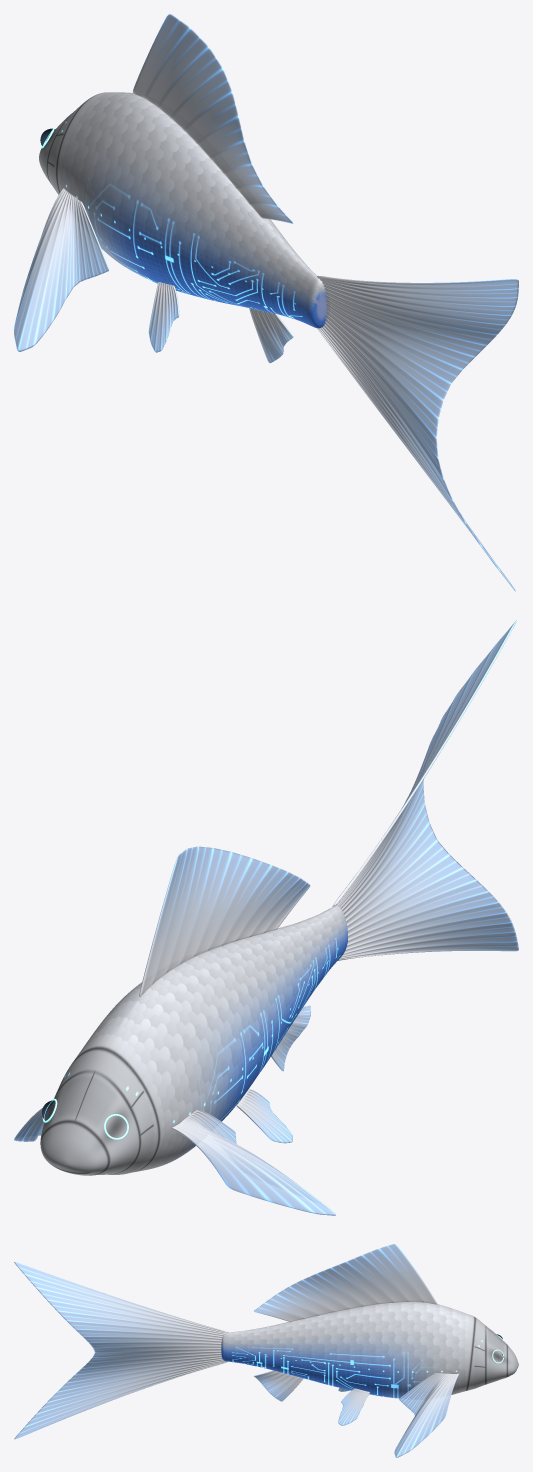
Rendered from cyberfish_straight.glb.
The picture shows the model from 3 angles, top to bottom: view 1: azimuth 30°, elevation 25°; view 2: azimuth 150°, elevation 25°; view 3: azimuth 270°, elevation 25°; orthographic projection. The views are drawn at different scales.
Parts seen in each view (by area): view 1: CF_Body, CF_FinTail, CF_FinDorsal, CF_FinPectoral.R, CF_FinPelvic.R, CF_FinAnal; view 2: CF_Body, CF_FinTail, CF_FinDorsal, CF_FinPectoral.R, CF_FinPelvic.R, CF_FinAnal; view 3: CF_Body, CF_FinTail, CF_FinDorsal, CF_FinPectoral.L, CF_FinAnal, CF_FinPelvic.L.
Boxes of the visible parts, x1,y1,x2,y2 form: CF_Body: (39,92,327,328); CF_FinTail: (316,275,518,591); CF_FinDorsal: (132,14,293,223); CF_FinPectoral.R: (14,188,109,351); CF_FinPelvic.R: (148,282,179,352); CF_FinAnal: (249,308,293,363); CF_Body: (40,905,347,1175); CF_FinTail: (332,620,518,960); CF_FinDorsal: (139,846,310,996); CF_FinPectoral.R: (171,1110,335,1215); CF_FinPelvic.R: (236,1089,292,1143); CF_FinAnal: (271,1005,310,1071); CF_Body: (221,1302,518,1398); CF_FinTail: (14,1262,228,1439); CF_FinDorsal: (254,1244,436,1321); CF_FinPectoral.L: (394,1373,458,1457); CF_FinAnal: (253,1370,303,1401); CF_FinPelvic.L: (338,1388,369,1425).
Bounding box in the file's own units: 2.66 × 2.85 × 6.78.
Materials: 5 (3 with a texture image).
